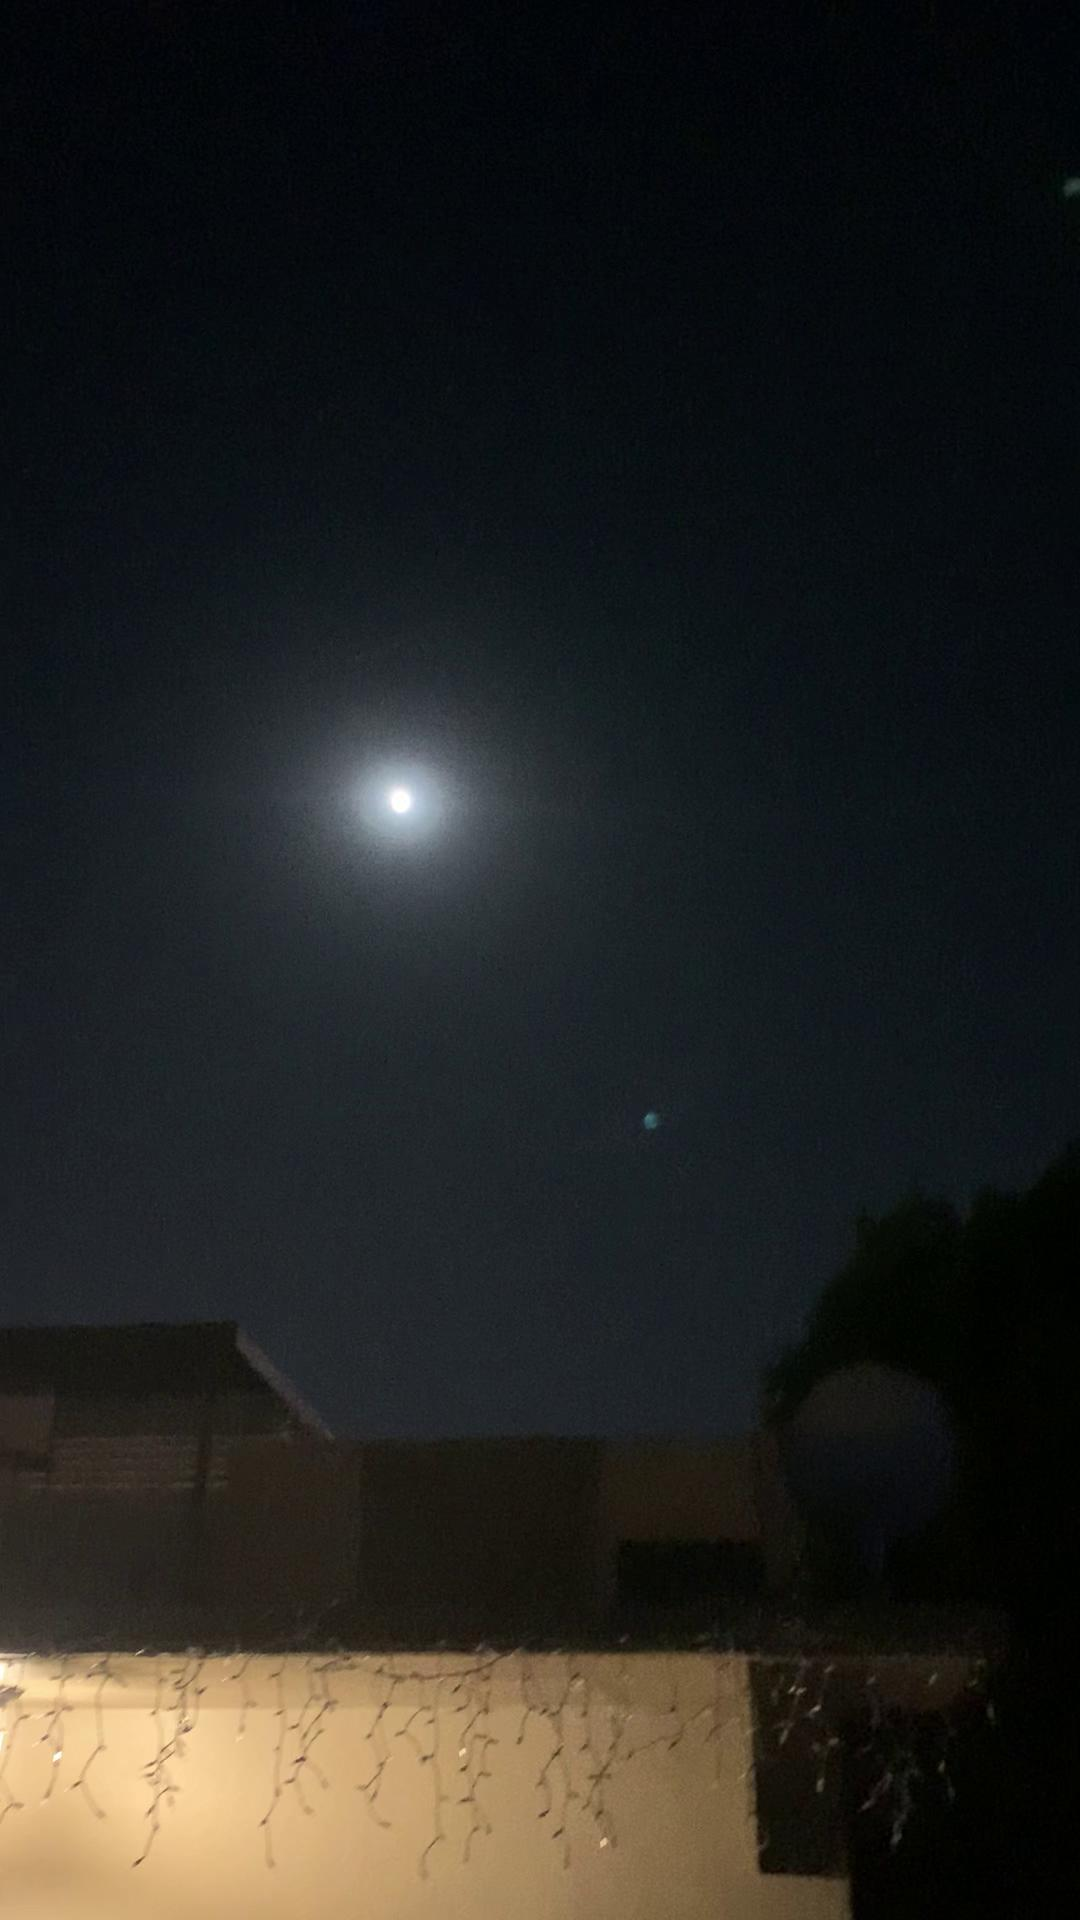moon: (364, 756, 451, 835)
